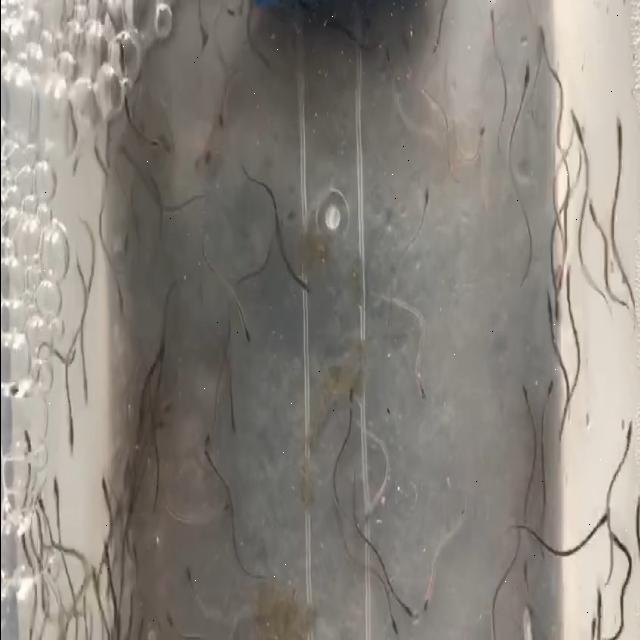active_glass_eel: (517, 48, 534, 106), (376, 34, 394, 86), (31, 489, 51, 529), (235, 320, 258, 354), (534, 481, 550, 529), (296, 278, 319, 310), (474, 102, 488, 154), (98, 536, 118, 572), (55, 430, 76, 464), (64, 142, 82, 180), (518, 550, 532, 598), (147, 122, 161, 170), (196, 448, 216, 481), (420, 594, 436, 634), (94, 474, 110, 514), (3, 380, 21, 414), (607, 514, 625, 548), (214, 105, 235, 134), (542, 361, 558, 399), (594, 583, 608, 625), (50, 451, 61, 504), (344, 390, 361, 424), (588, 198, 604, 234), (88, 562, 104, 598), (622, 410, 636, 450), (160, 611, 180, 639), (20, 426, 36, 460), (77, 378, 93, 412), (115, 286, 130, 322), (114, 140, 132, 170), (192, 142, 210, 172), (214, 500, 232, 530), (548, 282, 560, 326), (414, 380, 430, 412), (182, 564, 198, 596), (483, 0, 497, 36), (554, 264, 570, 294), (284, 203, 304, 227), (386, 608, 402, 638), (198, 424, 218, 448), (152, 336, 166, 370), (519, 377, 531, 416), (362, 505, 376, 537), (419, 186, 433, 218), (536, 26, 546, 70), (594, 502, 609, 530), (572, 112, 584, 146), (63, 333, 74, 369), (398, 600, 413, 622), (612, 117, 624, 144), (588, 609, 598, 640)
